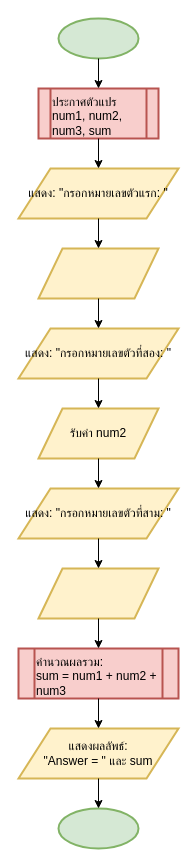
The diagram is 196 pixels wide and 866 high, and some of its shapes have lost their labels. The shapes that lost their labels are listed below. From the top down, each one's centre as x and y in pixels, then its label:
At point 98,38: "เริ่มต้น".
At point 98,273: "รับค่า num1".
At point 98,593: "รับค่า num3".
At point 98,828: "สิ้นสุด".
